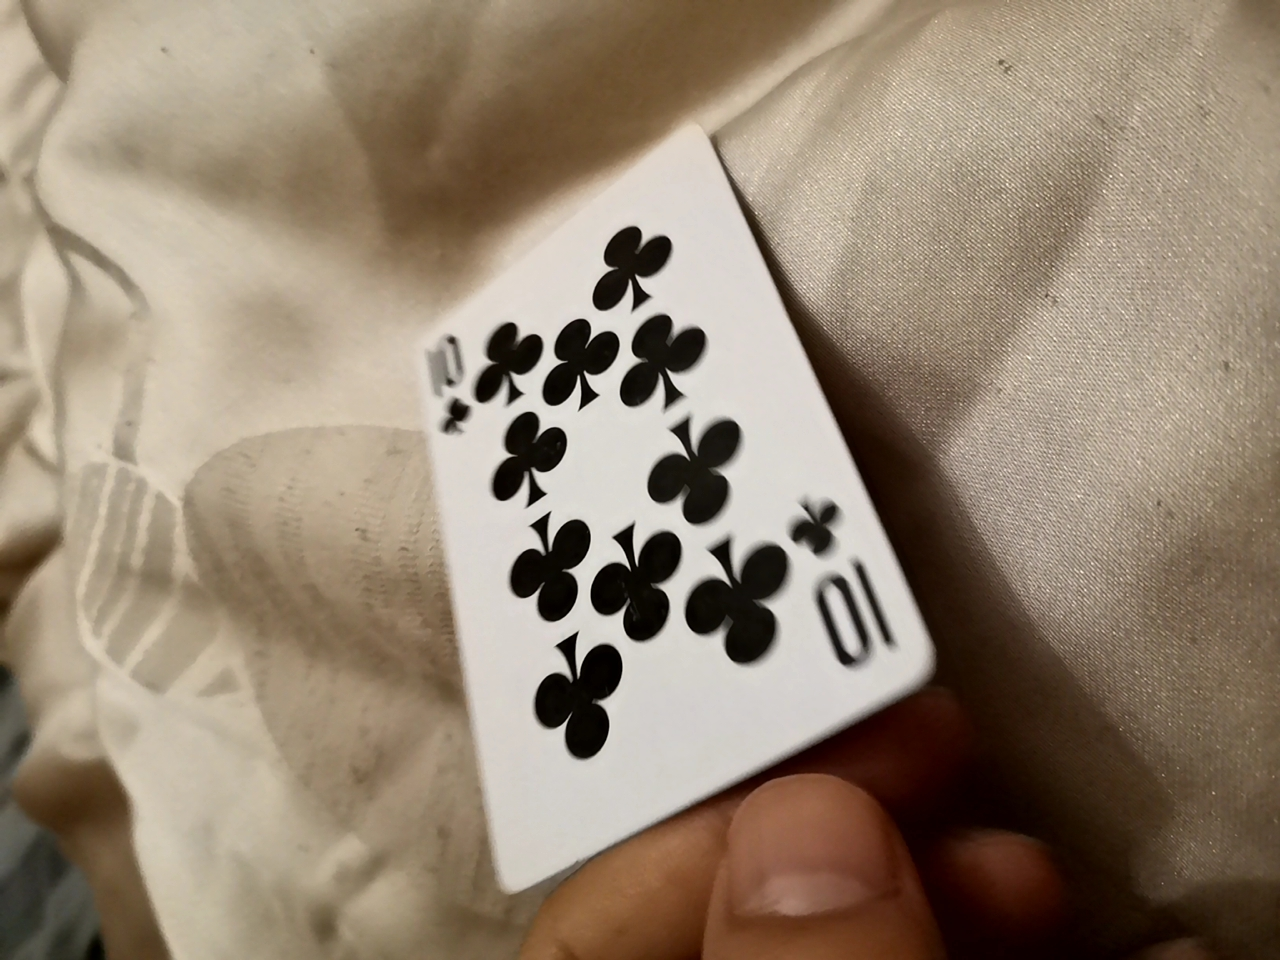mh 10: (419, 108, 928, 914)
